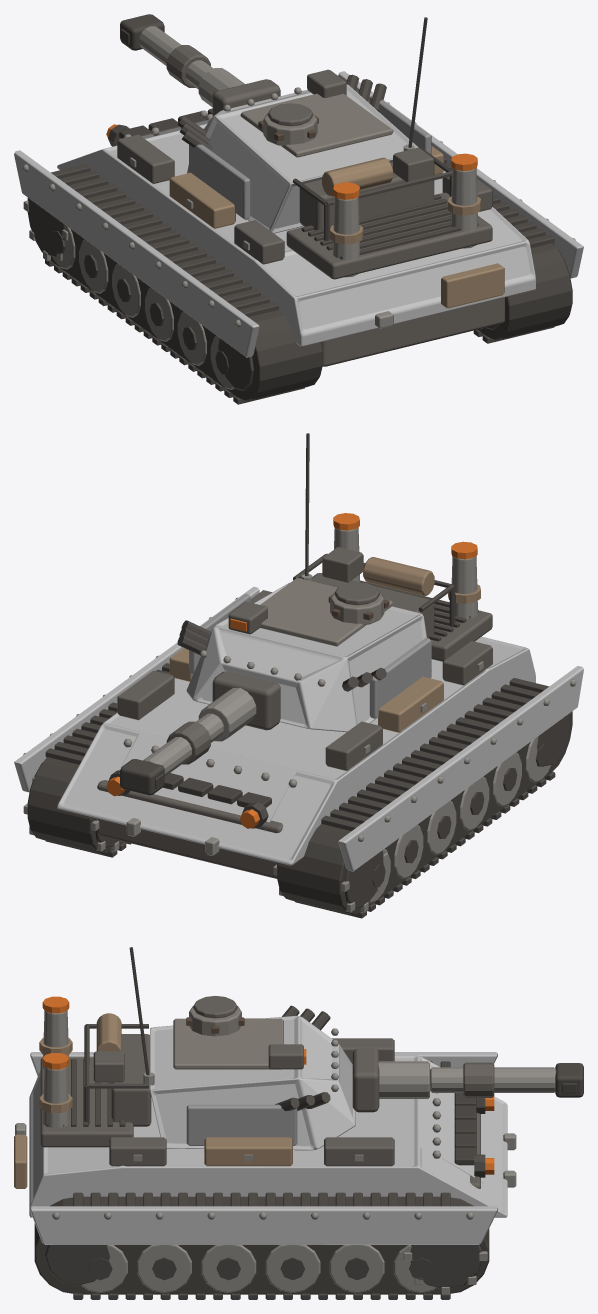
Rendered from crucible_anvil.glb.
3 renders of one model, top to bottom at view 1: azimuth 30°, elevation 25°; view 2: azimuth 150°, elevation 25°; view 3: azimuth 270°, elevation 25°, orthographic. The views are drawn at different scales.
Parts seen in each view (by area): view 1: Body, Turret; view 2: Body, Turret; view 3: Body, Turret.
Part boxes in pixels (x1,y1,x2,y2): Body: (14,71,583,404); Turret: (120,14,452,240); Body: (14,513,583,918); Turret: (120,433,455,795); Body: (14,996,516,1299); Turret: (84,947,583,1150).
Size of the model in its own units: 1.74 by 1.52 by 2.57.
